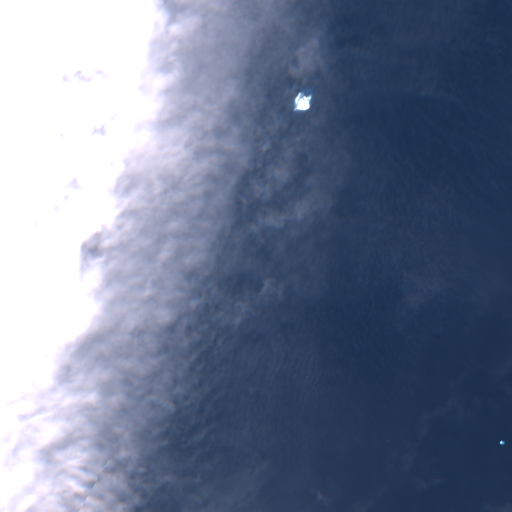Iceberg: (294, 92, 311, 110), (499, 440, 504, 444)
